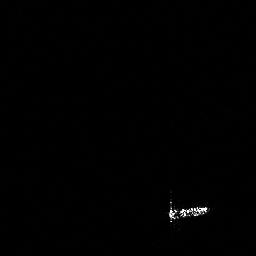ship: (163, 194, 212, 225)
